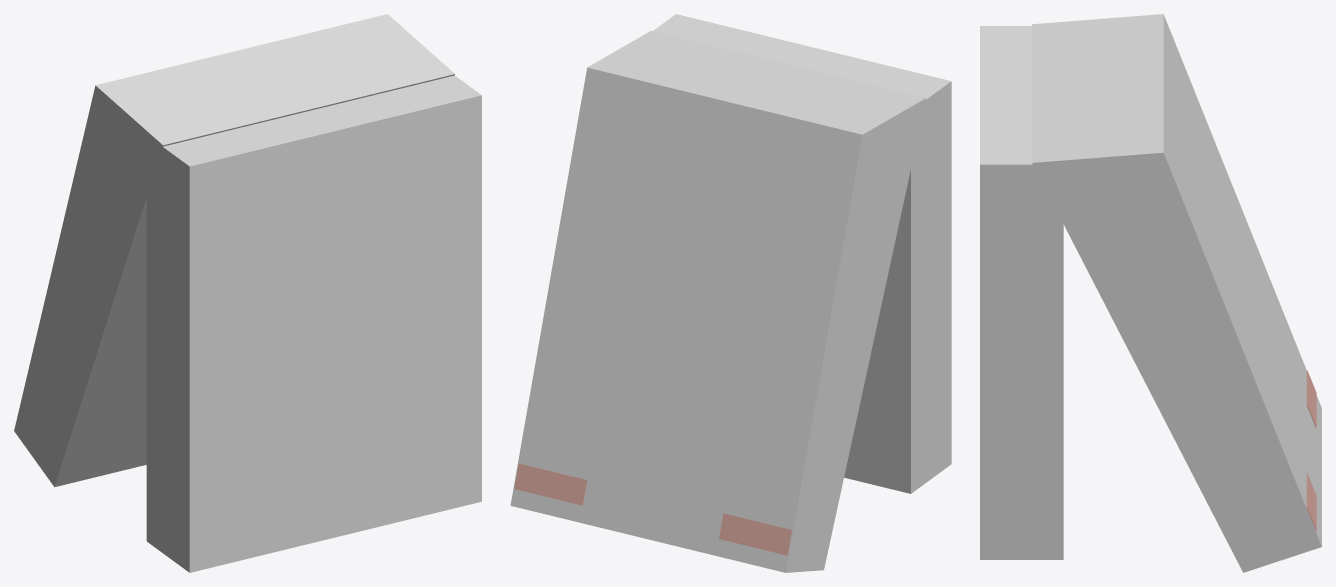
The model's file is RoadBlock04_B1_1_01.FBX.
3 views of the same model, side by side, from view 1: azimuth 30°, elevation 25°; view 2: azimuth 150°, elevation 25°; view 3: azimuth 270°, elevation 25° (orthographic). The views are drawn at different scales.
Parts seen in each view (by area): view 1: RoadBlock04_B1_Damage_1_01; view 2: RoadBlock04_B1_Damage_1_01, RoadBlock04_B1_Live_1_01; view 3: RoadBlock04_B1_Damage_1_01, RoadBlock04_B1_Live_1_01.
Boxes of the visible parts, box(x1,y1,x2,y2) form: RoadBlock04_B1_Damage_1_01: box(14, 14, 481, 572); RoadBlock04_B1_Damage_1_01: box(510, 14, 951, 572); RoadBlock04_B1_Live_1_01: box(514, 463, 791, 555); RoadBlock04_B1_Damage_1_01: box(980, 14, 1321, 572); RoadBlock04_B1_Live_1_01: box(1306, 370, 1316, 530).
Bounding box in the file's own units: 0.9224 × 1.3 × 0.961.
